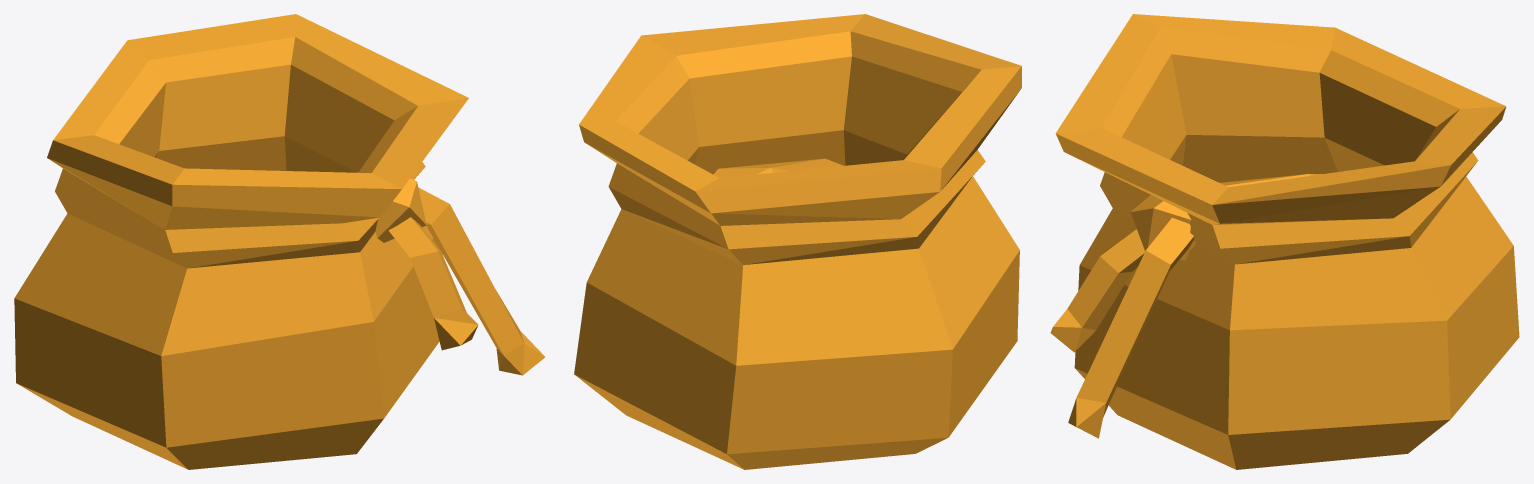
File: SM_Bag_Pouch.fbx
3 renders of one model, left to right at view 1: azimuth 30°, elevation 25°; view 2: azimuth 150°, elevation 25°; view 3: azimuth 270°, elevation 25°, orthographic. The views are drawn at different scales.
Parts seen in each view (by area): view 1: bag-pouch; view 2: bag-pouch; view 3: bag-pouch.
Part boxes in pixels (<box>): bag-pouch: <box>14,14,545,469</box>; bag-pouch: <box>574,14,1021,469</box>; bag-pouch: <box>1050,14,1519,469</box>.
Size of the model in its own units: 0.1408 by 0.1058 by 0.1436.
